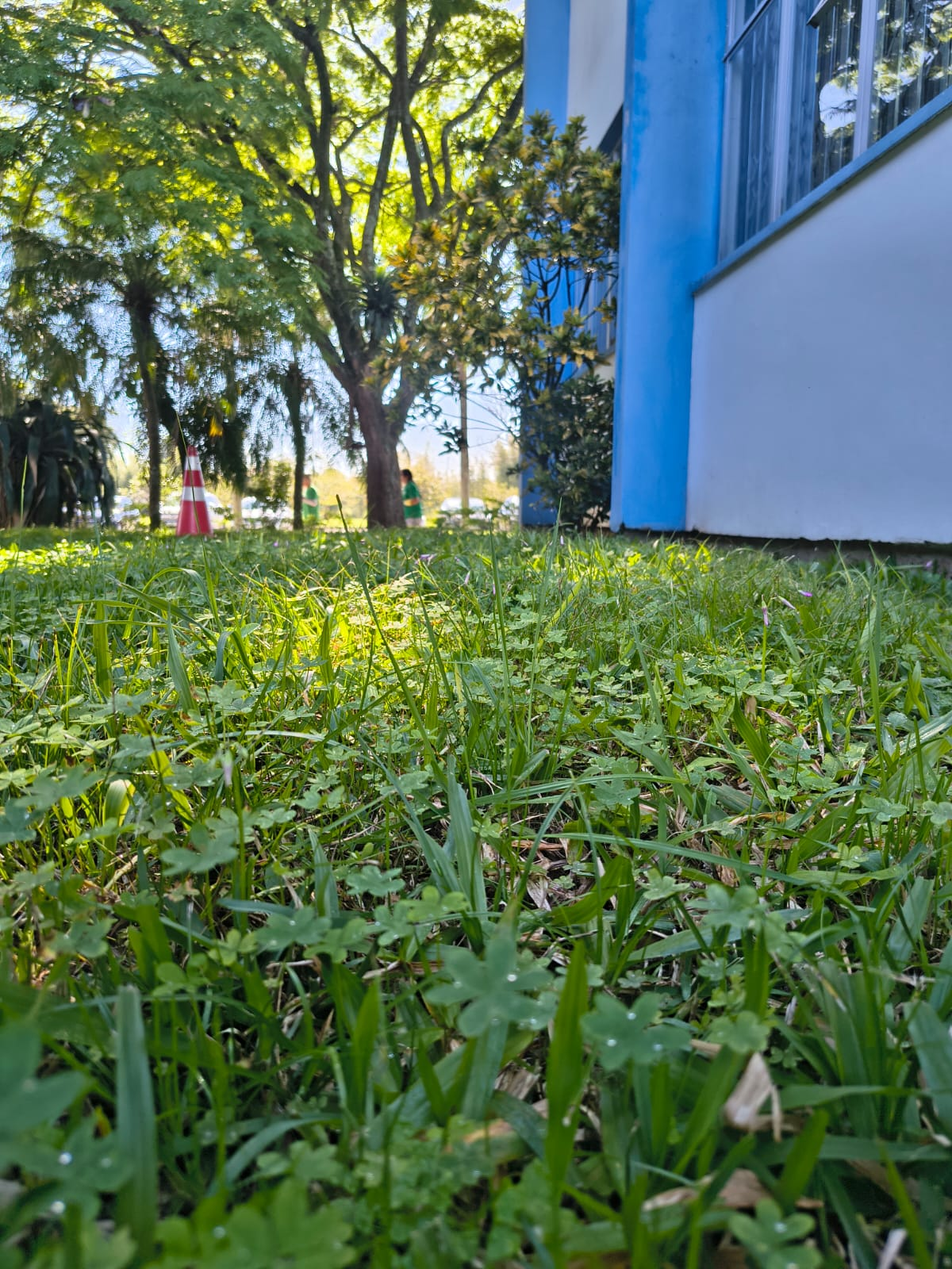cone: (169, 437, 224, 555)
